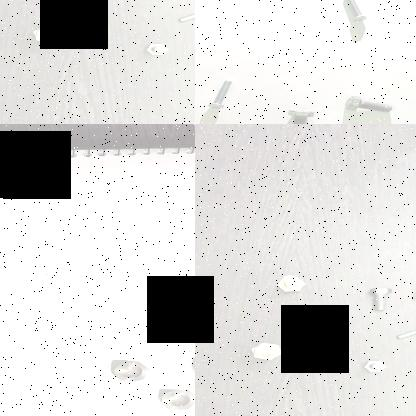Bolts: (339, 92, 397, 116), (202, 77, 240, 109), (266, 270, 312, 294), (26, 21, 68, 47), (244, 340, 288, 363), (332, 0, 372, 22), (364, 286, 394, 314), (274, 106, 320, 124), (356, 354, 394, 374), (138, 40, 174, 57), (391, 321, 416, 339), (175, 2, 195, 24), (290, 312, 316, 323), (72, 0, 100, 8)
NUTS: (109, 358, 153, 384), (155, 386, 195, 411)
